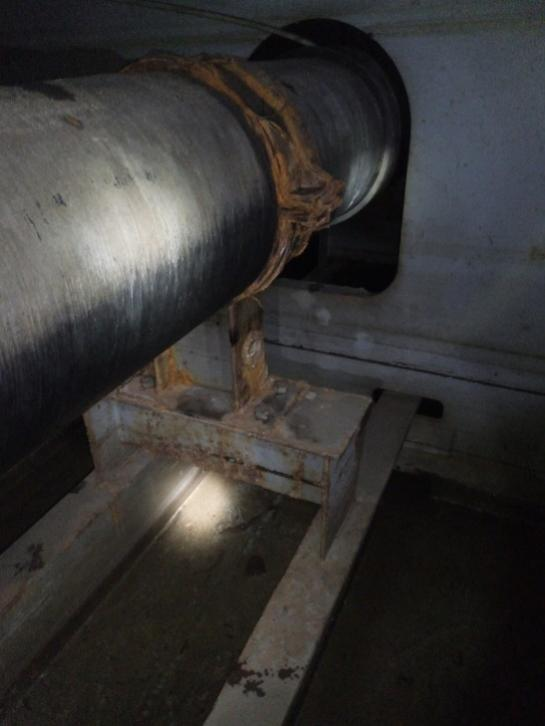corrosion: (260, 40, 334, 284), (124, 36, 255, 120), (120, 418, 263, 491), (239, 372, 330, 430), (147, 338, 197, 412), (223, 313, 266, 396), (270, 448, 325, 505)
